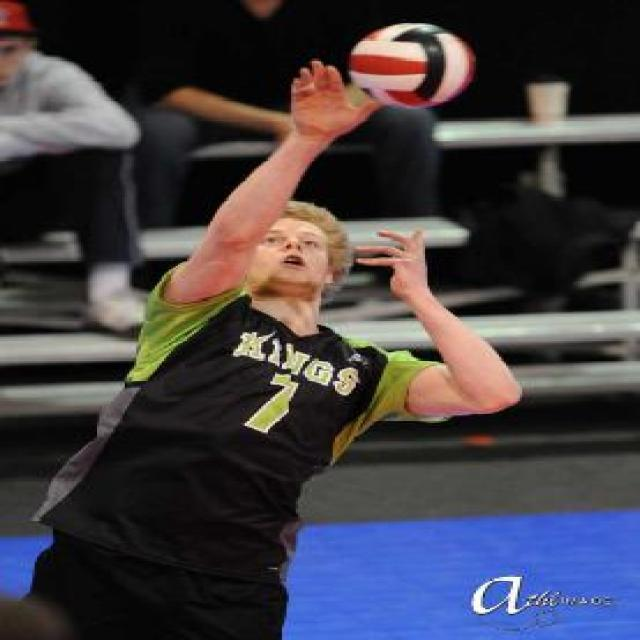volleyball: (350, 22, 476, 110)
